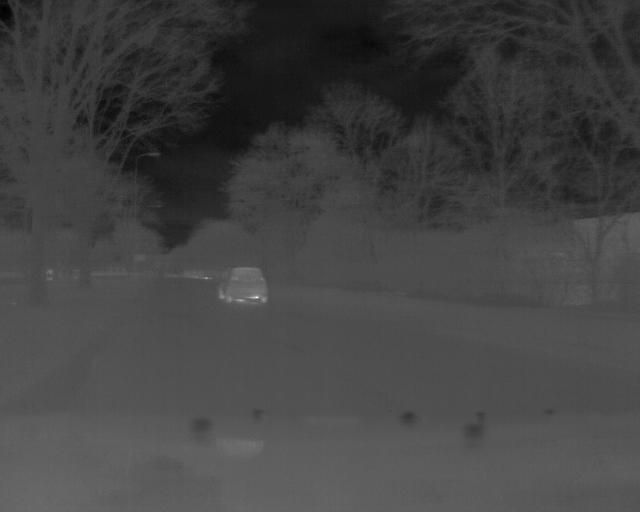car: (216, 267, 272, 308)
